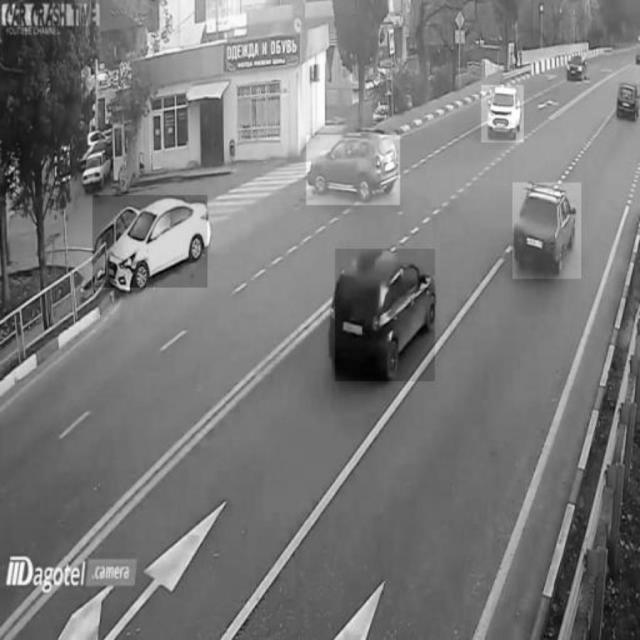accident: (92, 195, 208, 287)
vehicle: (335, 249, 435, 381), (513, 183, 581, 279), (307, 136, 400, 206), (482, 86, 524, 143), (611, 81, 640, 123)
